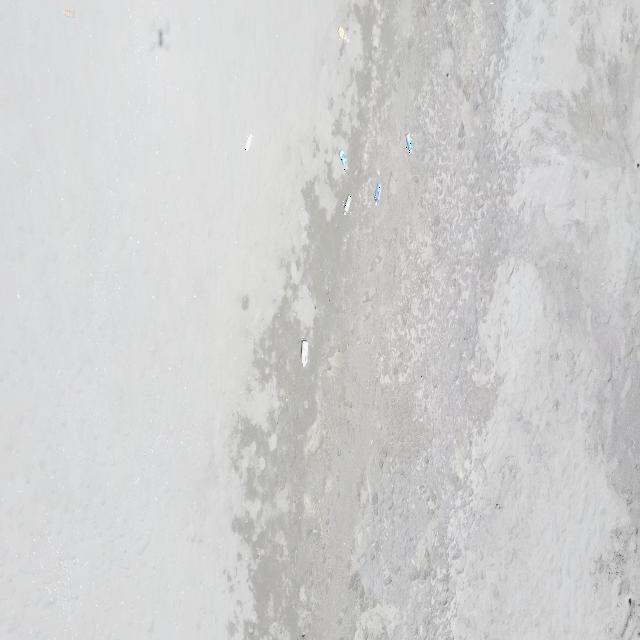plastic-bottle: (301, 338, 309, 366), (338, 26, 349, 43), (339, 150, 348, 170), (343, 195, 351, 216), (375, 183, 382, 206), (405, 133, 413, 153), (246, 133, 253, 152)
